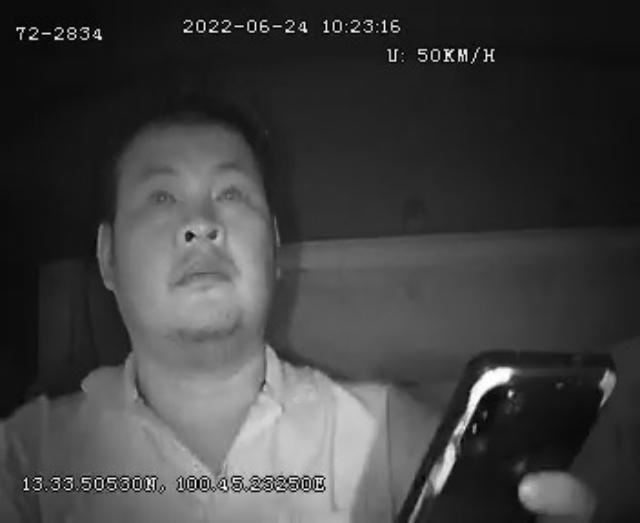PhoneUse: (396, 349, 628, 523)
SafeDriving: (142, 174, 186, 216), (208, 171, 252, 212)
